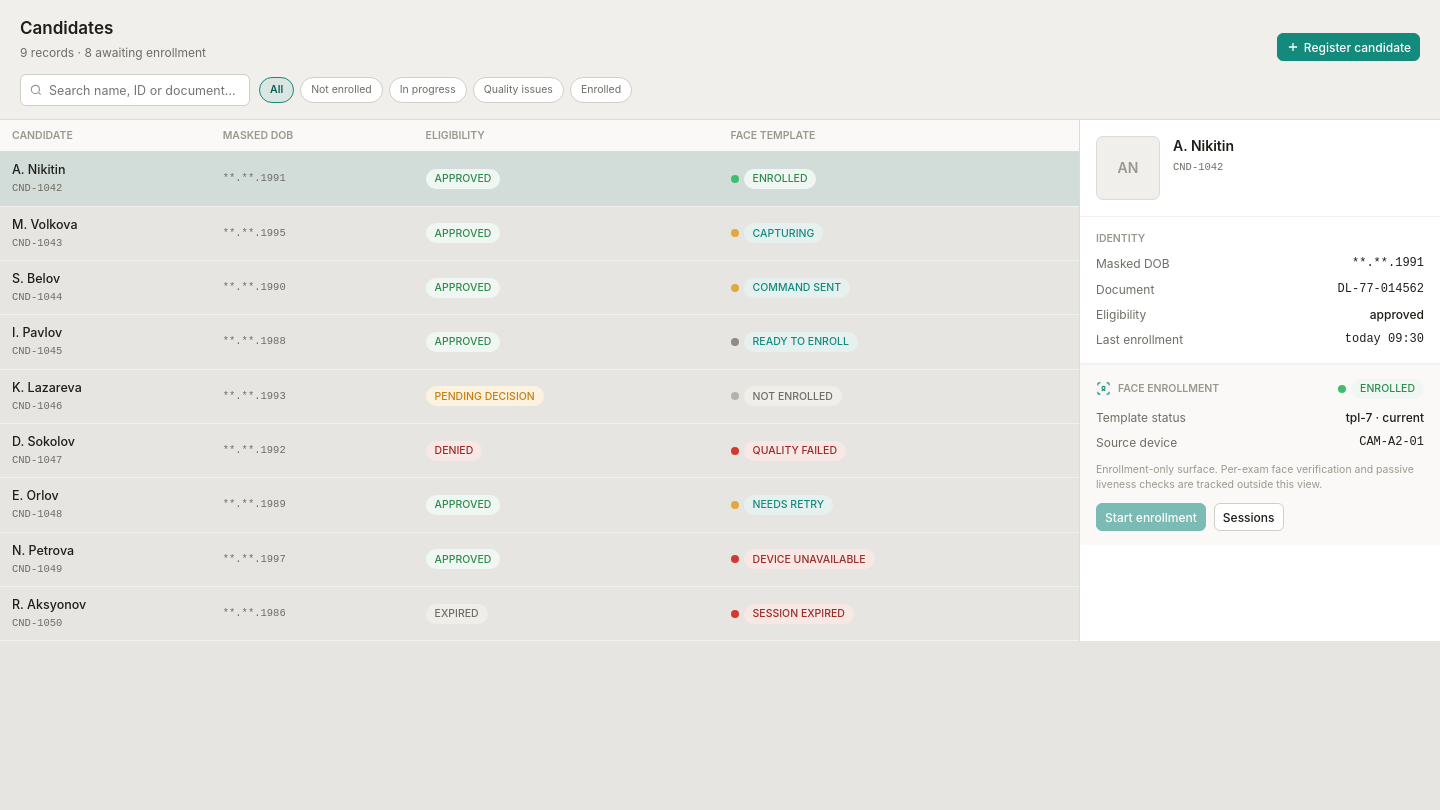
Test: CandidatesScreen › filters by search substring across name, id and document
Type "lazar" into the field labelled "Search name, ID or document…" at x=135, y=90, box [20, 74, 250, 106]
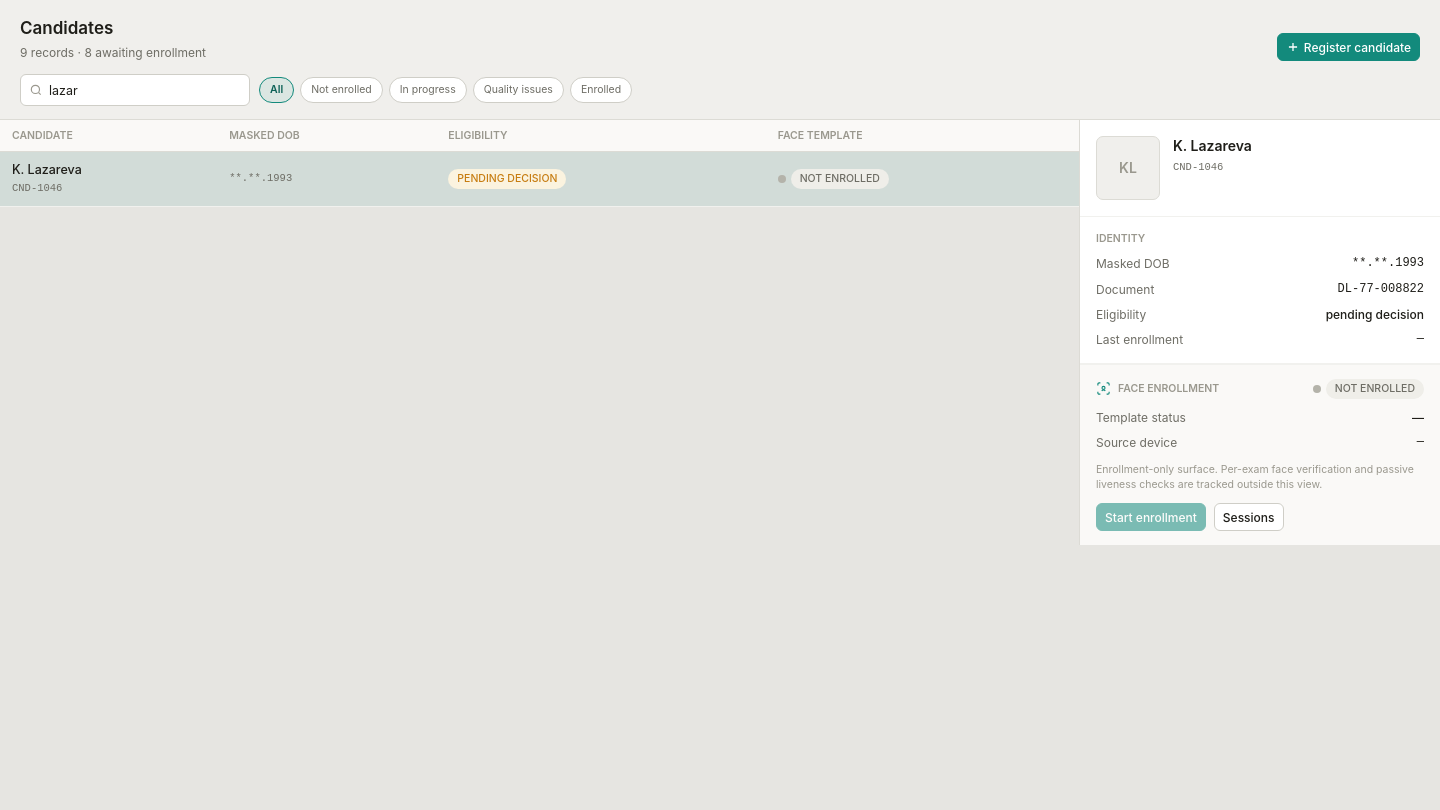
Expected: the 2nd text "CND-1046" is shown, [12, 181, 62, 197]
Result: the button "CND-1042" is gone
// Document substring also matches.
Replace the text in the field named "Search" with "DL-77-211" at x=135, y=90, box [20, 74, 250, 106]
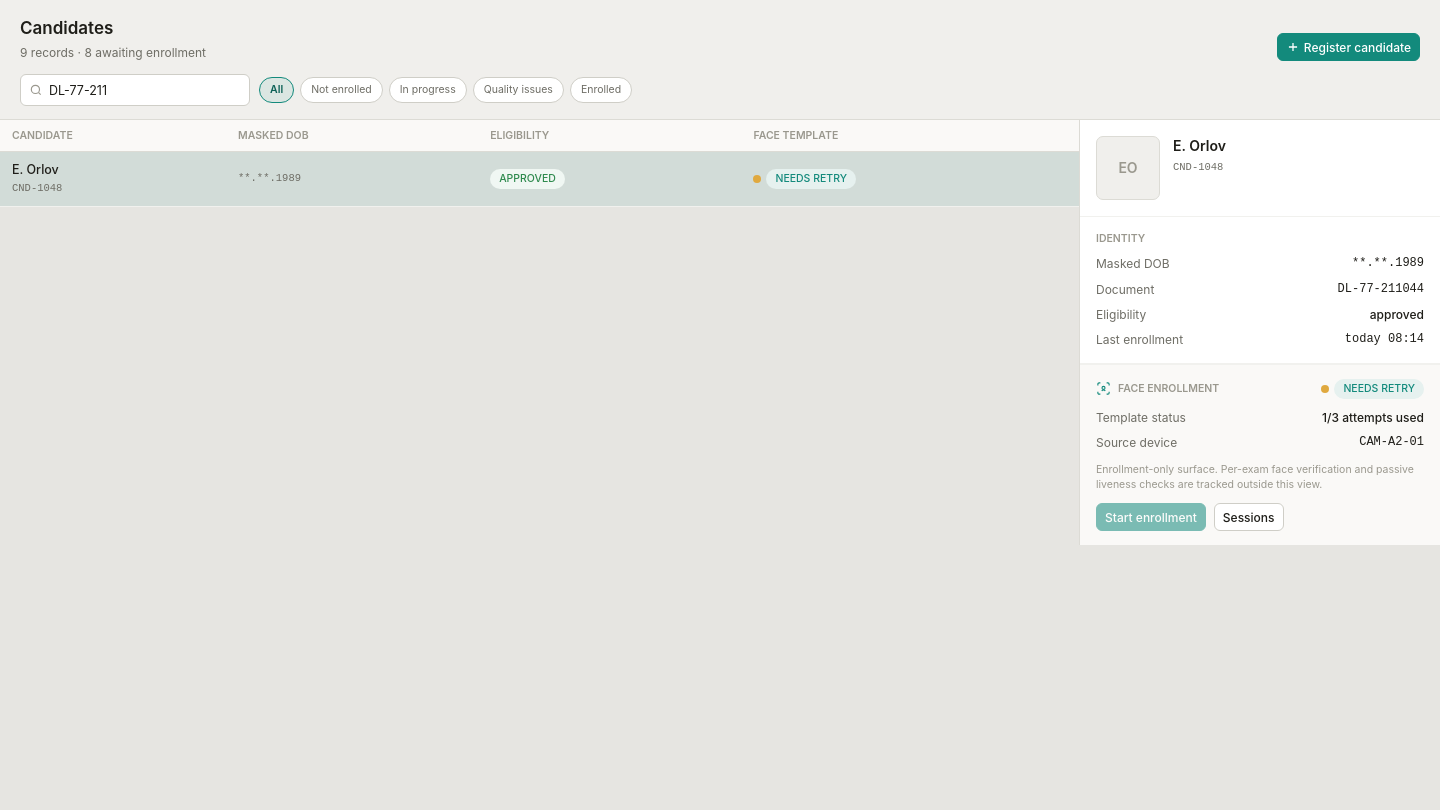
Expected: the button "CND-1042" is not shown
Result: the 2nd text "CND-1048" is shown at [12, 181, 62, 197]
